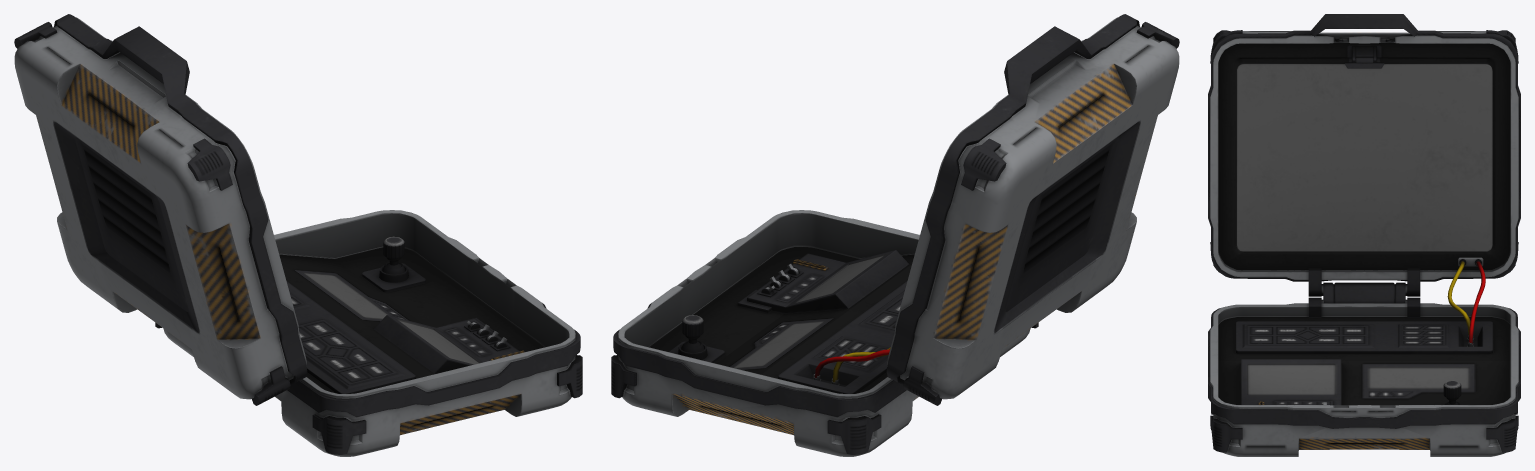
The model's file is Laptop Opened.fbx.
The picture shows the model from 3 angles, left to right: view 1: azimuth 30°, elevation 25°; view 2: azimuth 150°, elevation 25°; view 3: azimuth 270°, elevation 25°; orthographic projection. The views are drawn at different scales.
Parts seen in each view (by area): view 1: Laptop_Opened; view 2: Laptop_Opened; view 3: Laptop_Opened.
Part boxes in pixels (bbox=[...]): Laptop_Opened: bbox=[14, 14, 582, 456]; Laptop_Opened: bbox=[611, 14, 1179, 456]; Laptop_Opened: bbox=[1208, 14, 1520, 456].
Size of the model in its own units: 51.6 by 45.88 by 41.99.
1 material, 1 textured.
